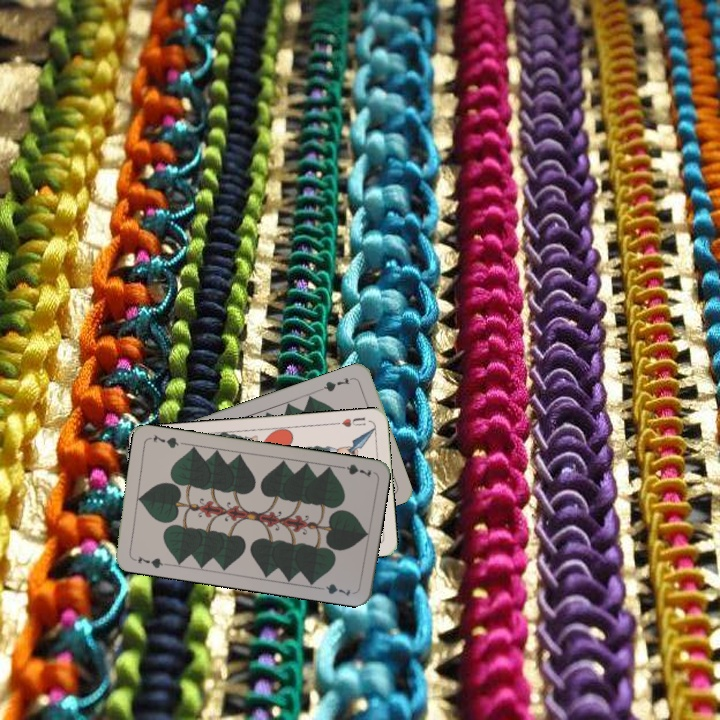G7: (334, 460, 374, 480), (129, 552, 169, 571), (317, 374, 352, 394)
HU: (331, 413, 368, 430)
